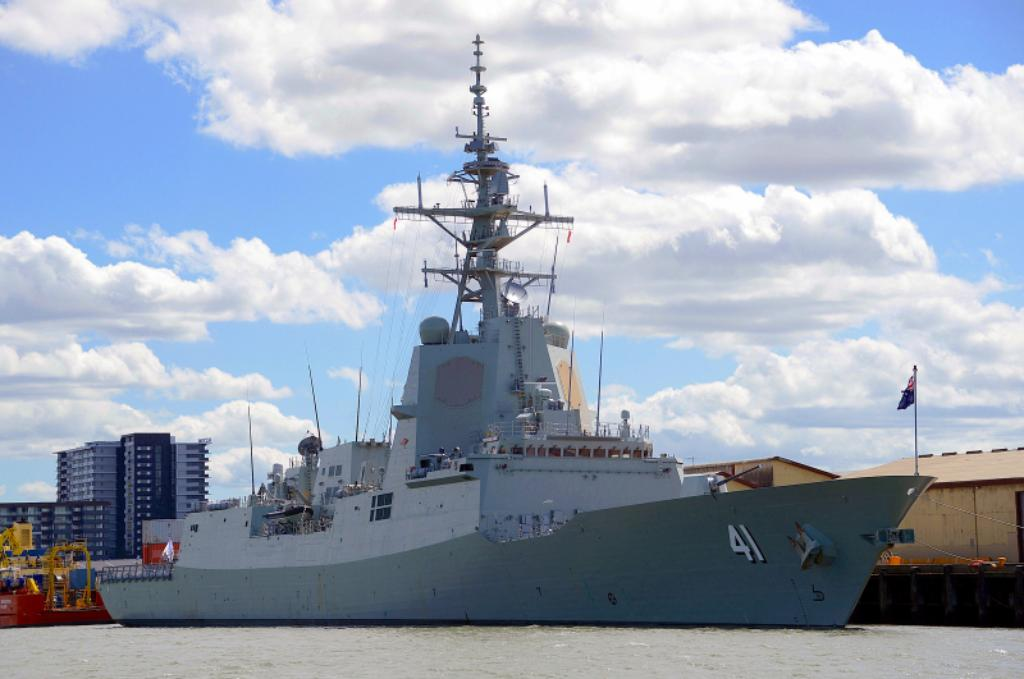Warship: (93, 30, 941, 628)
